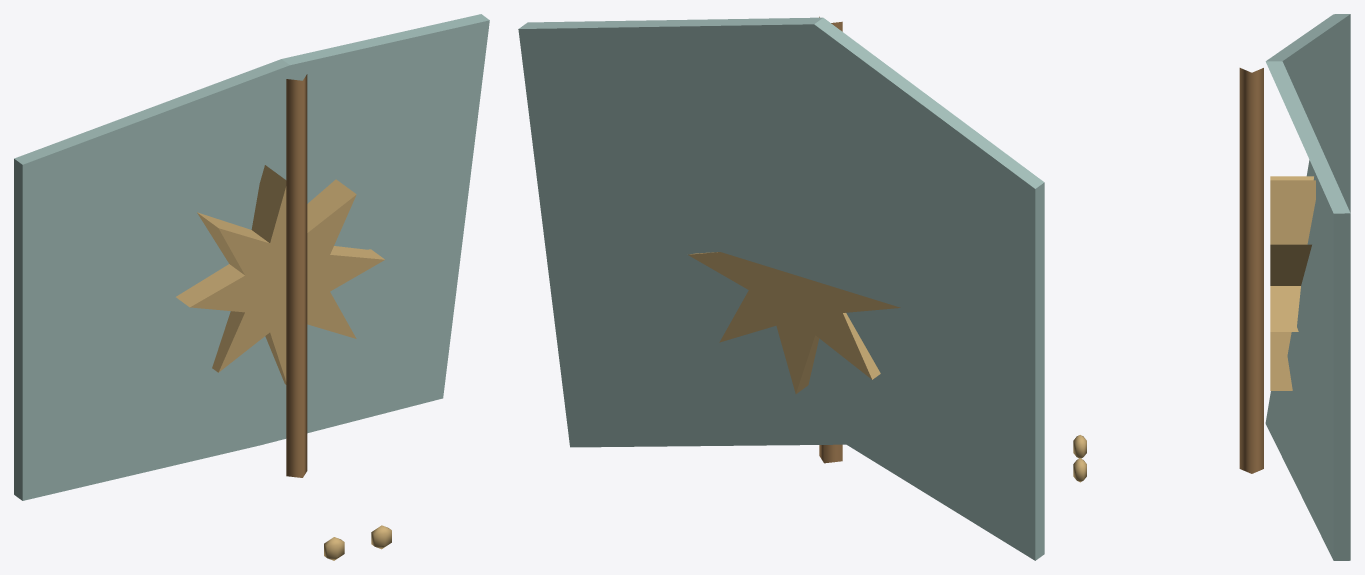
3 renders of one model, left to right at view 1: azimuth 30°, elevation 25°; view 2: azimuth 150°, elevation 25°; view 3: azimuth 270°, elevation 25°, orthographic. The views are drawn at different scales.
Visible parts, largest first — view 1: g_s52; view 2: g_s52; view 3: g_s52.
Part boxes in pixels (<box>): g_s52: <box>14,14,489,560</box>; g_s52: <box>518,16,1044,560</box>; g_s52: <box>1073,14,1350,560</box>.
Bounding box in the file's own units: 0.3441 × 0.2934 × 0.1751.
